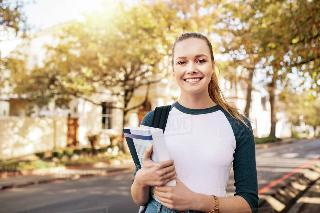person - v3 P: (131, 33, 258, 212)
